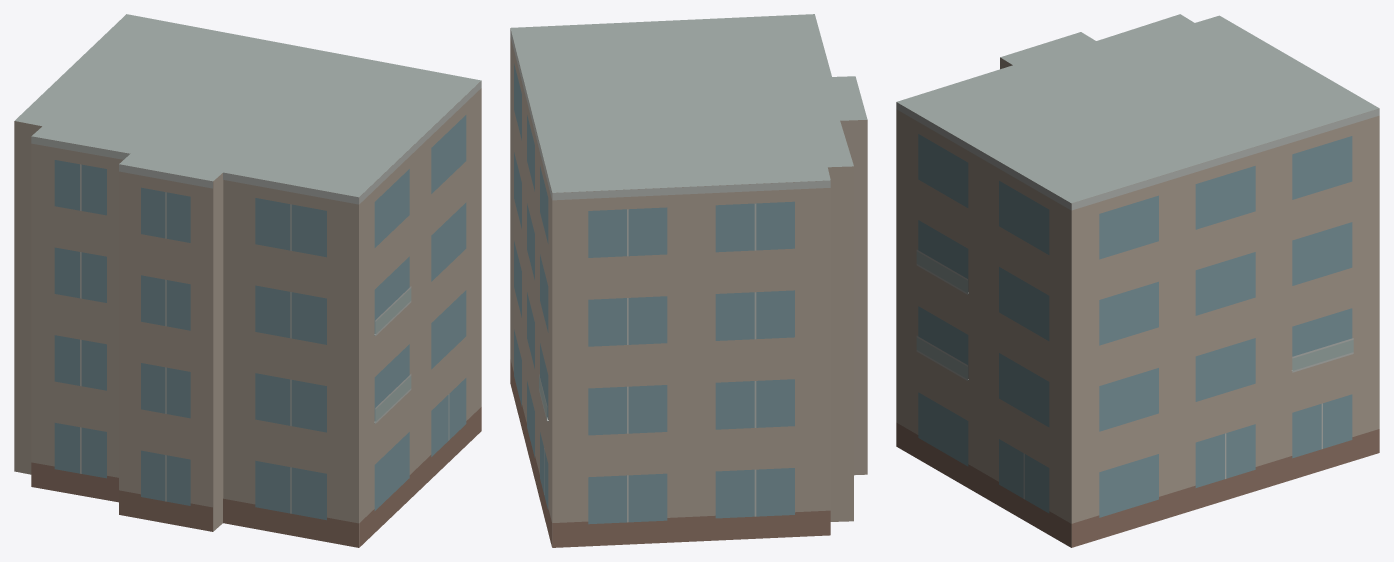
Rendered from survey-upis-32712638.glb.
3 renders of one model, left to right at view 1: azimuth 30°, elevation 25°; view 2: azimuth 150°, elevation 25°; view 3: azimuth 270°, elevation 25°, orthographic. The views are drawn at different scales.
Visible parts, largest first — view 1: survey-upis-32712638.tmp; view 2: survey-upis-32712638.tmp; view 3: survey-upis-32712638.tmp.
Part boxes in pixels (x1,y1,x2,y2): survey-upis-32712638.tmp: (14,14,481,547); survey-upis-32712638.tmp: (510,14,867,547); survey-upis-32712638.tmp: (896,14,1379,547).
Bounding box in the file's own units: 13.8 × 11.7 × 14.89.
